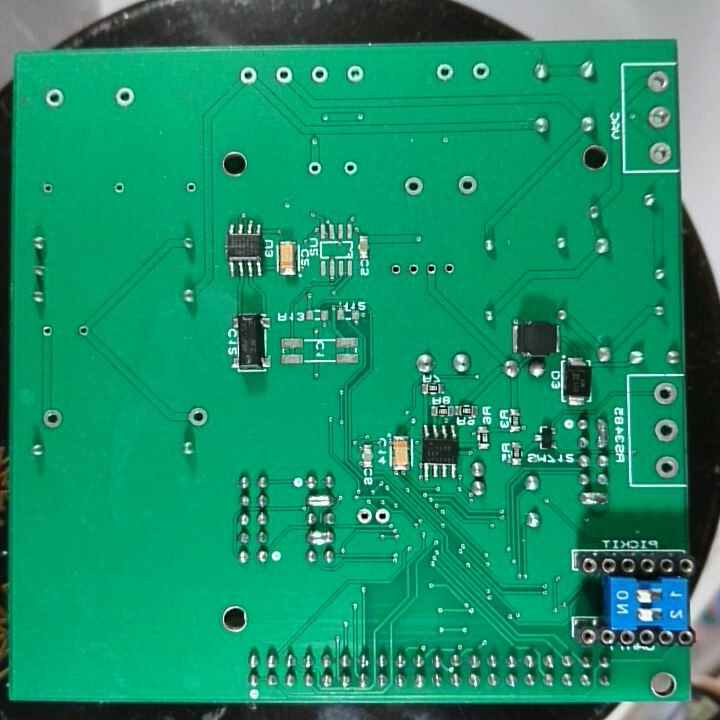F: (651, 415, 681, 446), (185, 404, 212, 432), (651, 381, 678, 408), (646, 139, 674, 165), (653, 453, 679, 481), (645, 69, 671, 96), (453, 173, 480, 198), (646, 103, 671, 129), (402, 172, 426, 197), (112, 86, 138, 109), (42, 86, 65, 111), (345, 62, 368, 86), (41, 406, 63, 431), (470, 60, 494, 82), (434, 61, 456, 83), (310, 63, 331, 86), (274, 63, 295, 86), (238, 64, 258, 87), (354, 505, 374, 528), (305, 157, 324, 181), (374, 505, 392, 528), (341, 158, 359, 179), (74, 322, 92, 341), (111, 179, 128, 198), (40, 179, 57, 197), (442, 258, 457, 278), (424, 260, 440, 278), (406, 260, 422, 278), (184, 179, 199, 197), (38, 323, 56, 338), (388, 261, 402, 278)
P: (577, 489, 608, 510), (305, 527, 336, 547), (594, 414, 610, 450), (304, 492, 337, 509)
